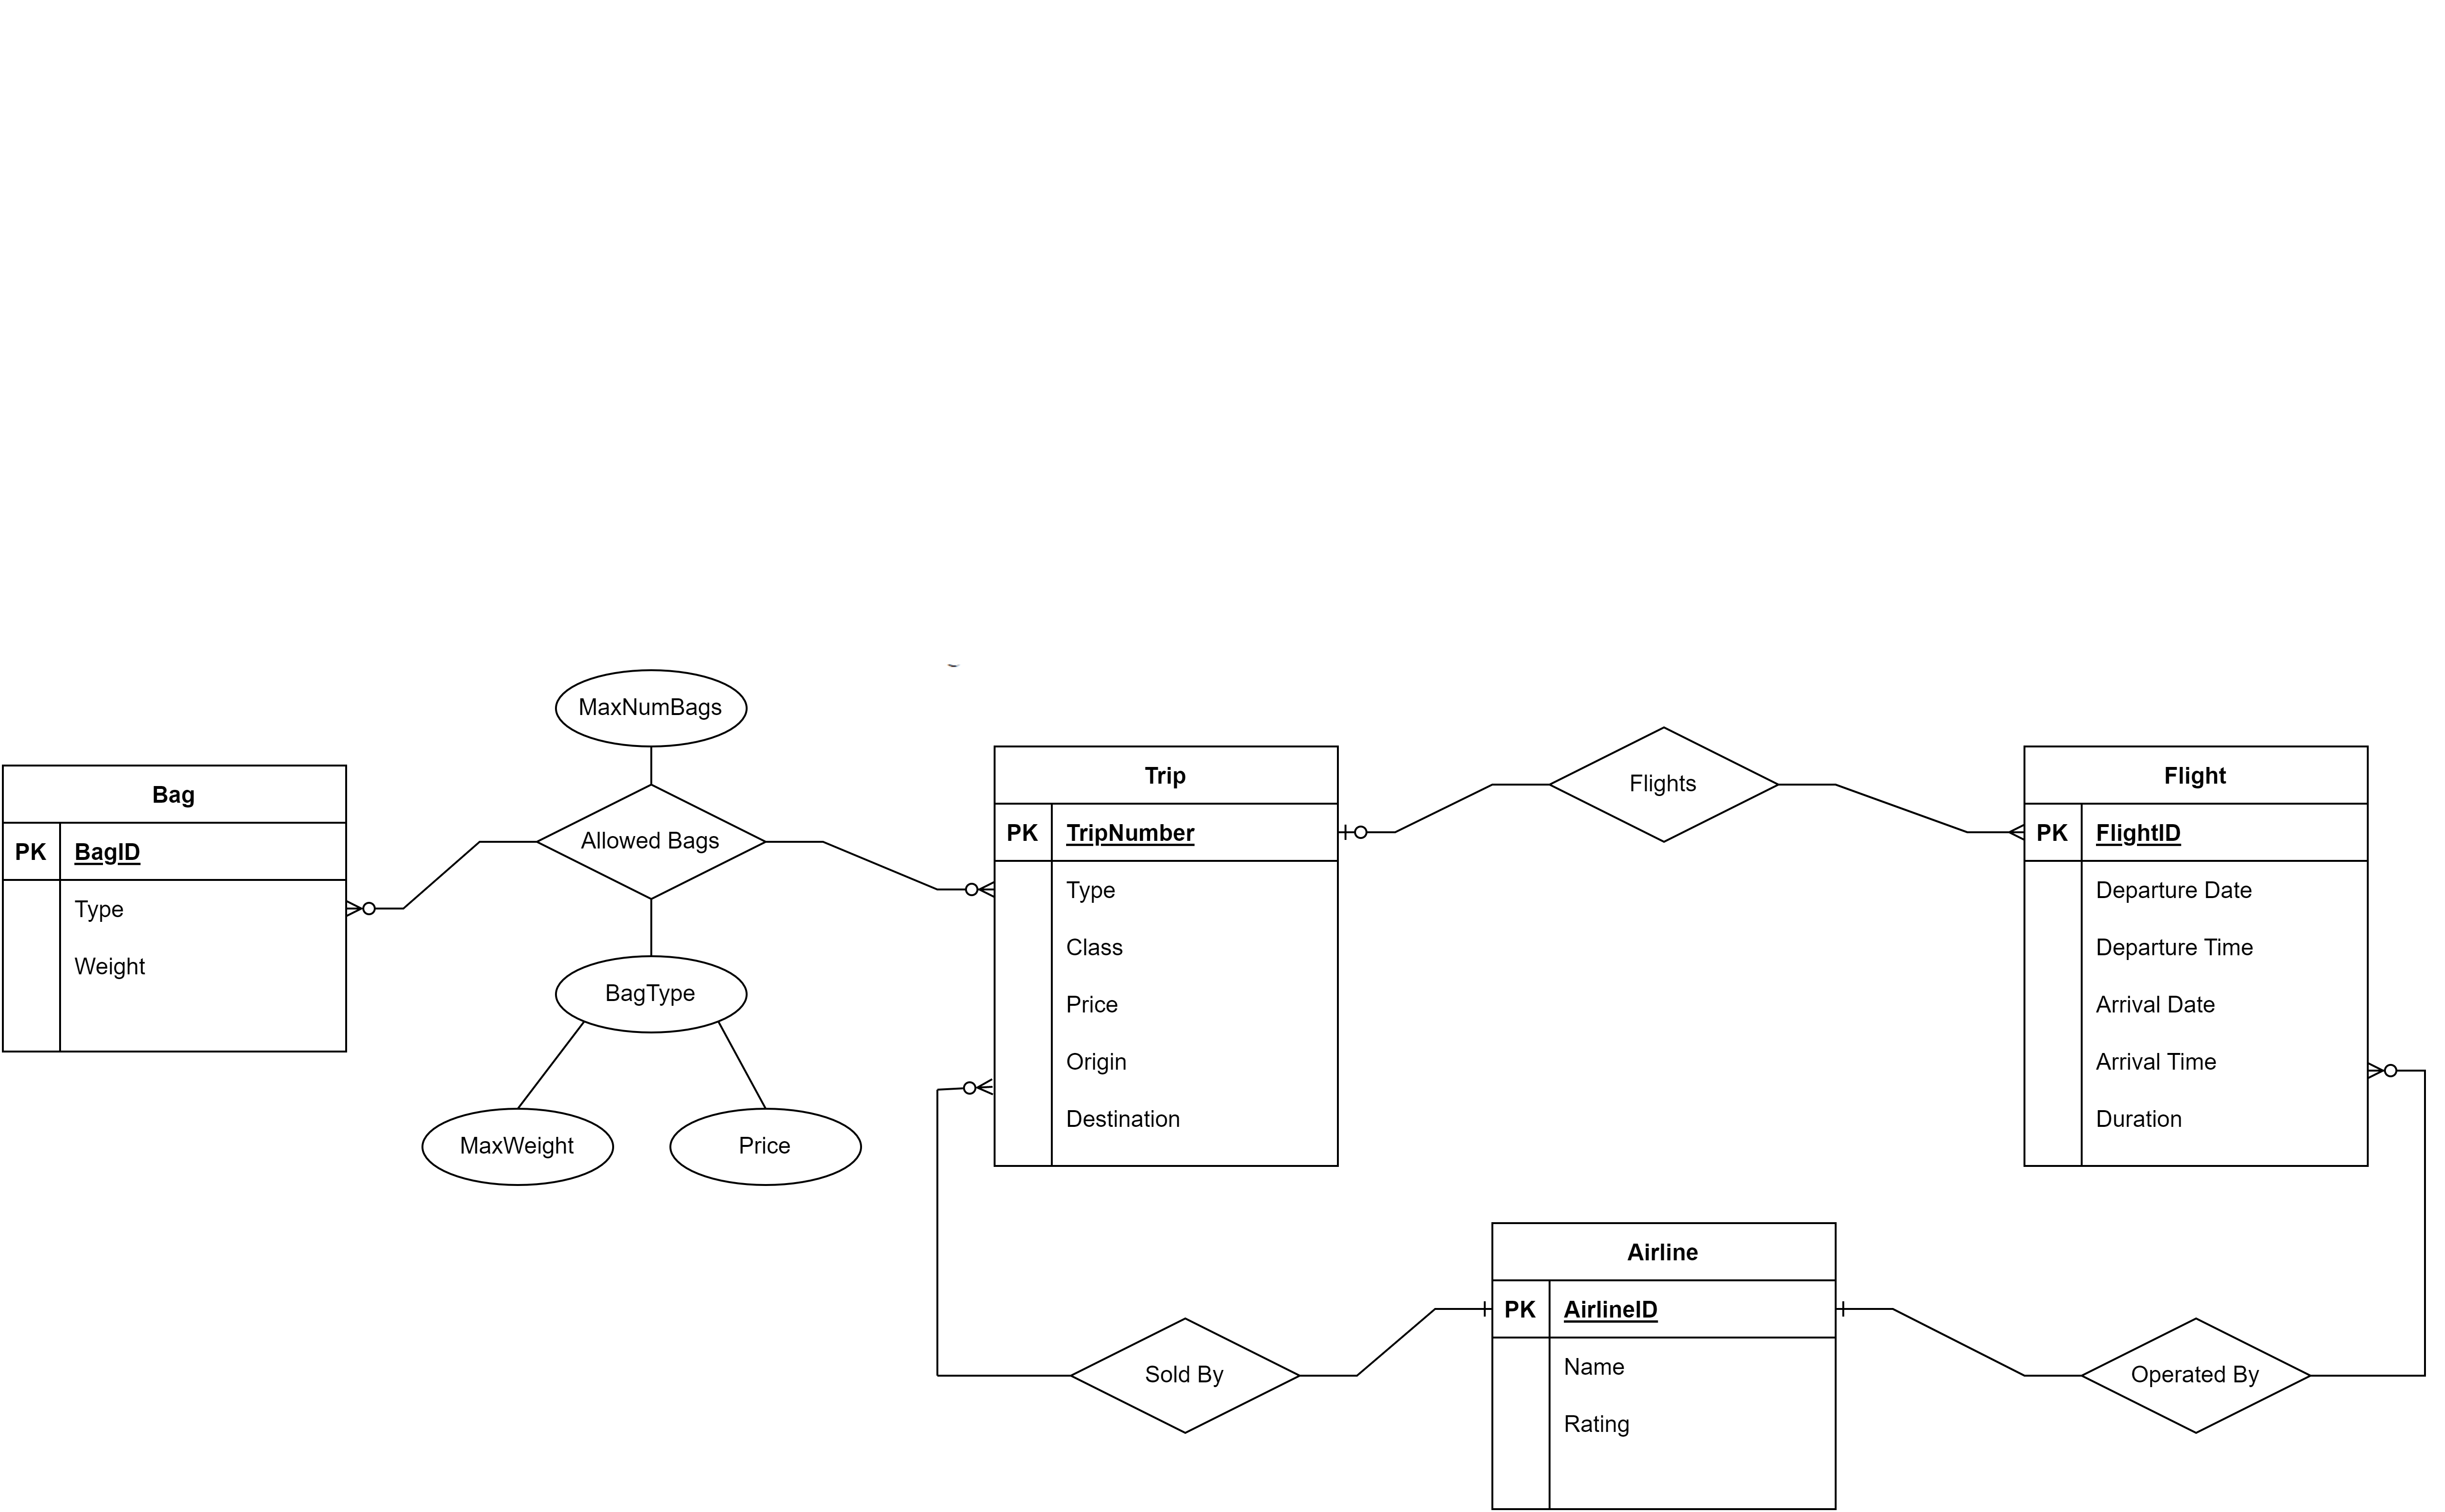entity: (2024, 747, 2373, 1170), (994, 746, 1341, 1166), (0, 763, 346, 1053), (1488, 1226, 1832, 1509)
many: (936, 1076, 995, 1100), (936, 878, 995, 901), (346, 897, 403, 920), (2368, 1060, 2426, 1082), (1966, 822, 2022, 842)
one: (1341, 821, 1397, 847), (1432, 1299, 1493, 1322), (1835, 1301, 1891, 1320)
rel: (1547, 726, 1780, 842), (2085, 1316, 2309, 1430), (1074, 1322, 1301, 1430), (545, 786, 765, 894)
rel_attr: (667, 1107, 861, 1189), (555, 955, 744, 1037), (555, 670, 747, 747), (421, 1109, 618, 1182)
